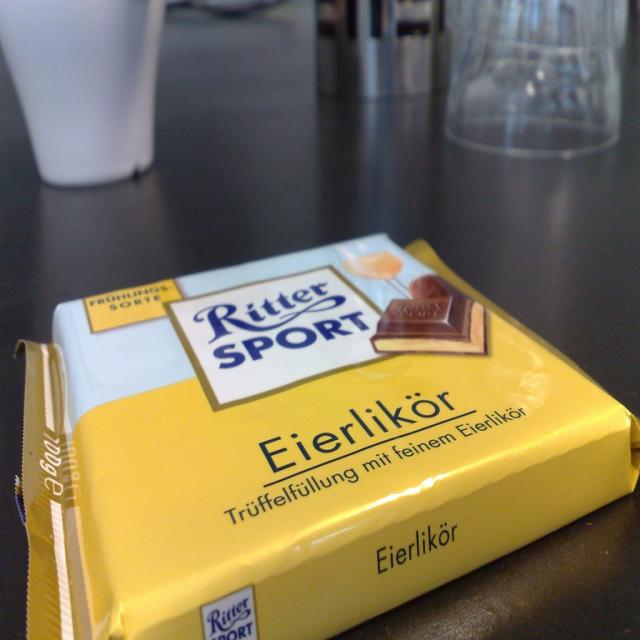rittersport: (166, 262, 413, 411), (198, 584, 263, 640)
